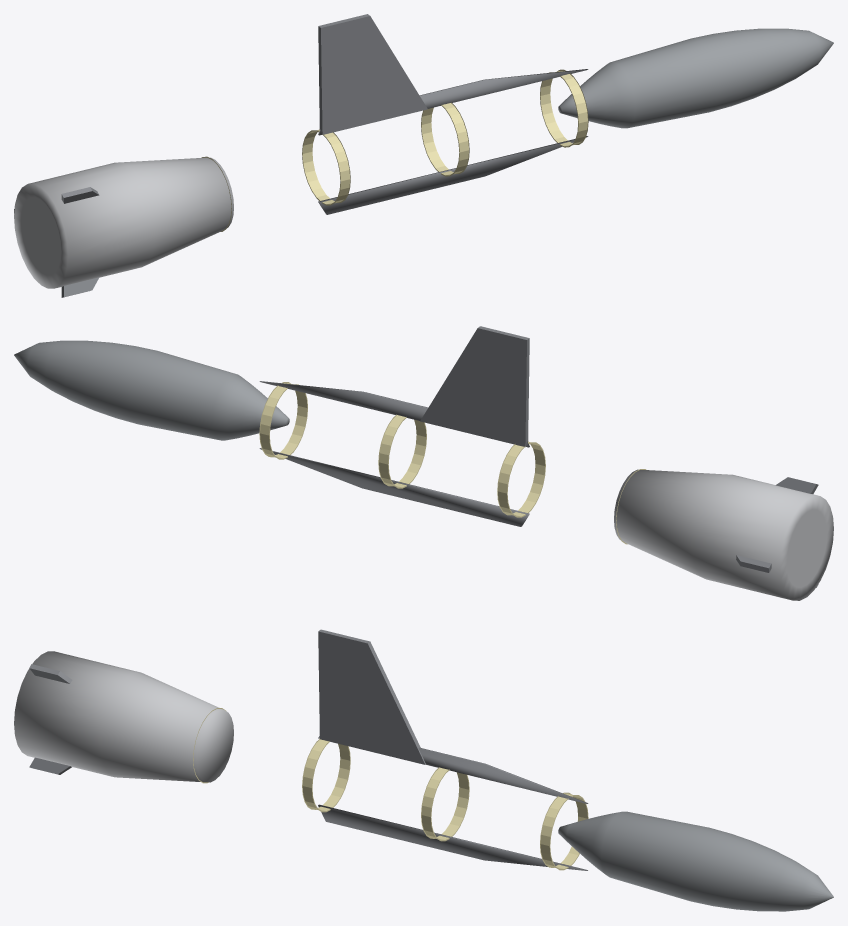
Rendered from US_LAM_Tomahawk_BlockV_LOD1.fbx.
The picture shows the model from 3 angles, top to bottom: view 1: azimuth 30°, elevation 25°; view 2: azimuth 150°, elevation 25°; view 3: azimuth 330°, elevation 25°; orthographic projection.
Parts seen in each view (by area): view 1: WPN_US_LAM_Tomahawk_BlockV_LOD1_Tail, WPN_US_LAM_Tomahawk_BlockV_LOD1_Body, WPN_US_LAM_Tomahawk_BlockV_LOD1_Wings, WPN_US_LAM_Tomahawk_BlockV_LOD1_Detail, WPN_US_LAM_Tomahawk_BlockV_LOD1_Marking, WPN_US_LAM_Tomahawk_BlockV_LOD1_Fins; view 2: WPN_US_LAM_Tomahawk_BlockV_LOD1_Tail, WPN_US_LAM_Tomahawk_BlockV_LOD1_Body, WPN_US_LAM_Tomahawk_BlockV_LOD1_Wings, WPN_US_LAM_Tomahawk_BlockV_LOD1_Detail, WPN_US_LAM_Tomahawk_BlockV_LOD1_Marking, WPN_US_LAM_Tomahawk_BlockV_LOD1_Fins; view 3: WPN_US_LAM_Tomahawk_BlockV_LOD1_Tail, WPN_US_LAM_Tomahawk_BlockV_LOD1_Body, WPN_US_LAM_Tomahawk_BlockV_LOD1_Wings, WPN_US_LAM_Tomahawk_BlockV_LOD1_Detail, WPN_US_LAM_Tomahawk_BlockV_LOD1_Marking, WPN_US_LAM_Tomahawk_BlockV_LOD1_Fins.
Boxes of the visible parts, left/top/right/bottom form: WPN_US_LAM_Tomahawk_BlockV_LOD1_Tail: left=14, top=157, right=233, bottom=288; WPN_US_LAM_Tomahawk_BlockV_LOD1_Body: left=558, top=28, right=833, bottom=128; WPN_US_LAM_Tomahawk_BlockV_LOD1_Wings: left=318, top=14, right=427, bottom=134; WPN_US_LAM_Tomahawk_BlockV_LOD1_Detail: left=318, top=69, right=588, bottom=214; WPN_US_LAM_Tomahawk_BlockV_LOD1_Marking: left=201, top=69, right=588, bottom=231; WPN_US_LAM_Tomahawk_BlockV_LOD1_Fins: left=14, top=187, right=99, bottom=297; WPN_US_LAM_Tomahawk_BlockV_LOD1_Tail: left=614, top=469, right=833, bottom=600; WPN_US_LAM_Tomahawk_BlockV_LOD1_Body: left=14, top=340, right=289, bottom=440; WPN_US_LAM_Tomahawk_BlockV_LOD1_Wings: left=420, top=326, right=529, bottom=446; WPN_US_LAM_Tomahawk_BlockV_LOD1_Detail: left=259, top=381, right=529, bottom=526; WPN_US_LAM_Tomahawk_BlockV_LOD1_Marking: left=259, top=382, right=646, bottom=544; WPN_US_LAM_Tomahawk_BlockV_LOD1_Fins: left=736, top=477, right=818, bottom=587; WPN_US_LAM_Tomahawk_BlockV_LOD1_Tail: left=14, top=651, right=233, bottom=782; WPN_US_LAM_Tomahawk_BlockV_LOD1_Body: left=558, top=811, right=833, bottom=911; WPN_US_LAM_Tomahawk_BlockV_LOD1_Wings: left=318, top=629, right=425, bottom=764; WPN_US_LAM_Tomahawk_BlockV_LOD1_Detail: left=318, top=736, right=588, bottom=870; WPN_US_LAM_Tomahawk_BlockV_LOD1_Marking: left=193, top=708, right=588, bottom=870; WPN_US_LAM_Tomahawk_BlockV_LOD1_Fins: left=29, top=664, right=72, bottom=774.
Size of the model in its own units: 6.25 by 0.8112 by 1.46.
